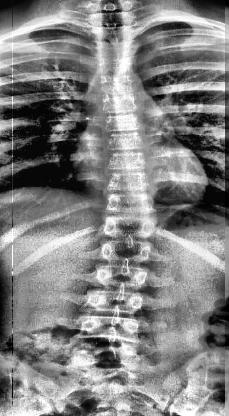Vertebrae: (76, 312, 144, 344), (82, 286, 148, 318), (97, 234, 158, 266), (100, 209, 160, 241), (101, 186, 157, 218), (94, 260, 148, 290), (102, 145, 151, 173), (102, 168, 154, 194), (100, 127, 148, 154), (98, 108, 146, 134), (91, 71, 138, 97), (96, 89, 142, 115), (91, 36, 139, 60), (93, 54, 136, 78)
